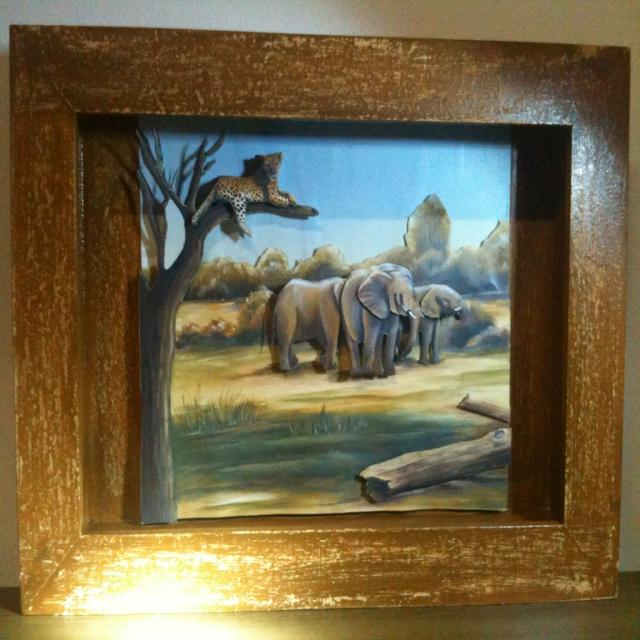elephant: (340, 271, 423, 378), (266, 273, 346, 377), (390, 284, 465, 363)
